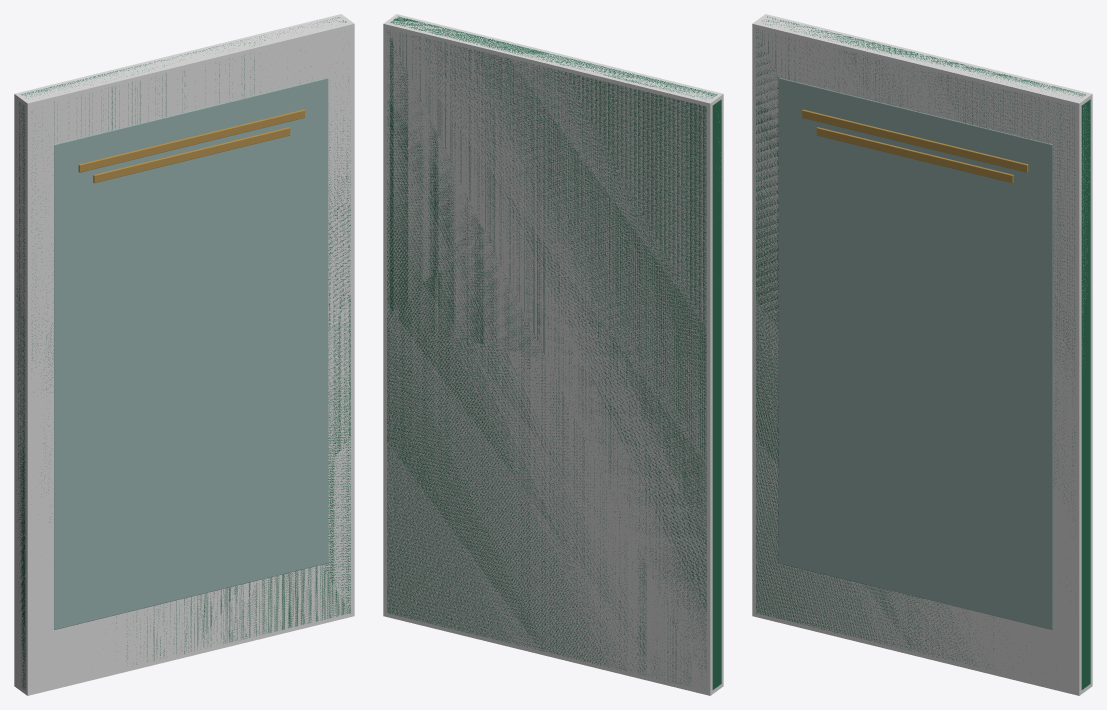
File: mirror_luxury.glb
The picture shows the model from 3 angles, left to right: view 1: azimuth 30°, elevation 25°; view 2: azimuth 150°, elevation 25°; view 3: azimuth 330°, elevation 25°; orthographic projection.
Parts seen in each view (by area): view 1: MESH_Inset, COL_mirror, MESH_Frame, MESH_TierTrim_01, MESH_TierTrim_02; view 2: COL_mirror, MESH_Frame; view 3: MESH_Inset, COL_mirror, MESH_Frame, MESH_TierTrim_01, MESH_TierTrim_02.
Part boxes in pixels (left/top/right/bottom): MESH_Inset: left=54, top=78, right=328, bottom=629; COL_mirror: left=14, top=14, right=354, bottom=695; MESH_Frame: left=16, top=17, right=350, bottom=689; MESH_TierTrim_01: left=78, top=109, right=304, bottom=172; MESH_TierTrim_02: left=93, top=127, right=290, bottom=183; COL_mirror: left=383, top=14, right=723, bottom=695; MESH_Frame: left=387, top=16, right=721, bottom=689; MESH_Inset: left=778, top=78, right=1052, bottom=629; COL_mirror: left=752, top=14, right=1092, bottom=695; MESH_Frame: left=756, top=16, right=1090, bottom=689; MESH_TierTrim_01: left=802, top=109, right=1028, bottom=172; MESH_TierTrim_02: left=816, top=127, right=1013, bottom=183.
Size of the model in its own units: 0.78 by 1.35 by 0.0603.
